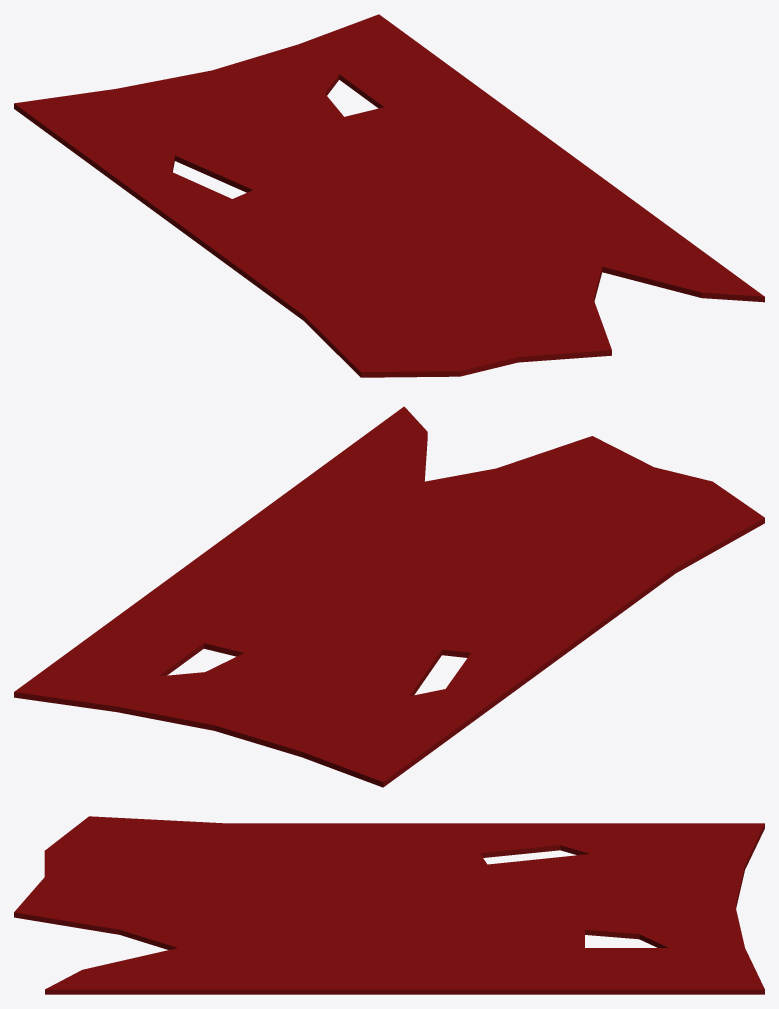
Rendered from SM_flag_sole.fbx.
3 views of the same model, one above another, from view 1: azimuth 30°, elevation 25°; view 2: azimuth 150°, elevation 25°; view 3: azimuth 270°, elevation 25° (orthographic). The views are drawn at different scales.
Visible parts, largest first — view 1: flag_sole; view 2: flag_sole; view 3: flag_sole.
Part boxes in pixels (x1,y1,x2,y2): flag_sole: (14, 14, 764, 377); flag_sole: (14, 406, 764, 787); flag_sole: (14, 816, 764, 994).
Bounding box in the file's own units: 438 × 6.1 × 803.
